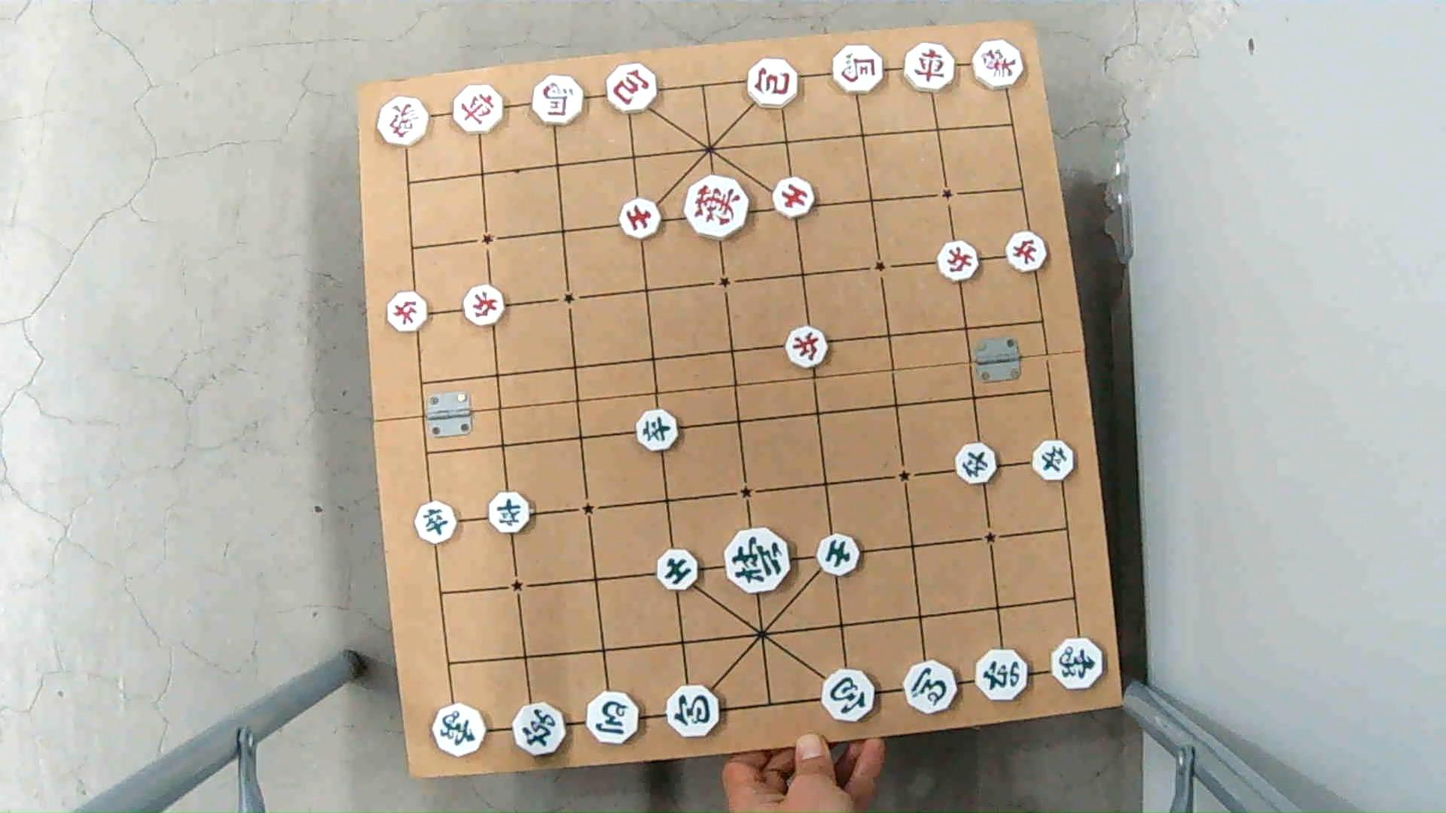cha_green: (972, 647, 1030, 696), (510, 704, 569, 751)
cha_red: (452, 88, 510, 134), (900, 47, 958, 92)
jol_green: (952, 446, 1002, 483), (413, 506, 462, 543), (632, 413, 682, 449), (486, 498, 535, 534), (1030, 443, 1079, 479)
jol_red: (783, 330, 832, 367), (1005, 234, 1051, 273), (392, 291, 439, 328), (462, 285, 509, 322), (936, 245, 984, 281)
ma_green: (584, 694, 642, 743), (901, 662, 958, 710)
ma_red: (826, 45, 883, 95), (531, 78, 587, 124)
po_green: (821, 668, 878, 720), (667, 688, 723, 737)
po_red: (602, 65, 659, 111), (744, 58, 801, 103)
sa_green: (812, 536, 863, 573), (654, 550, 702, 587)
sa_red: (615, 199, 664, 236), (773, 180, 821, 216)
sang_green: (1047, 639, 1106, 689), (431, 705, 488, 754)
sang_red: (374, 101, 432, 146), (969, 43, 1027, 87)
wang_green: (723, 534, 792, 592)
wang_red: (686, 178, 753, 240)
